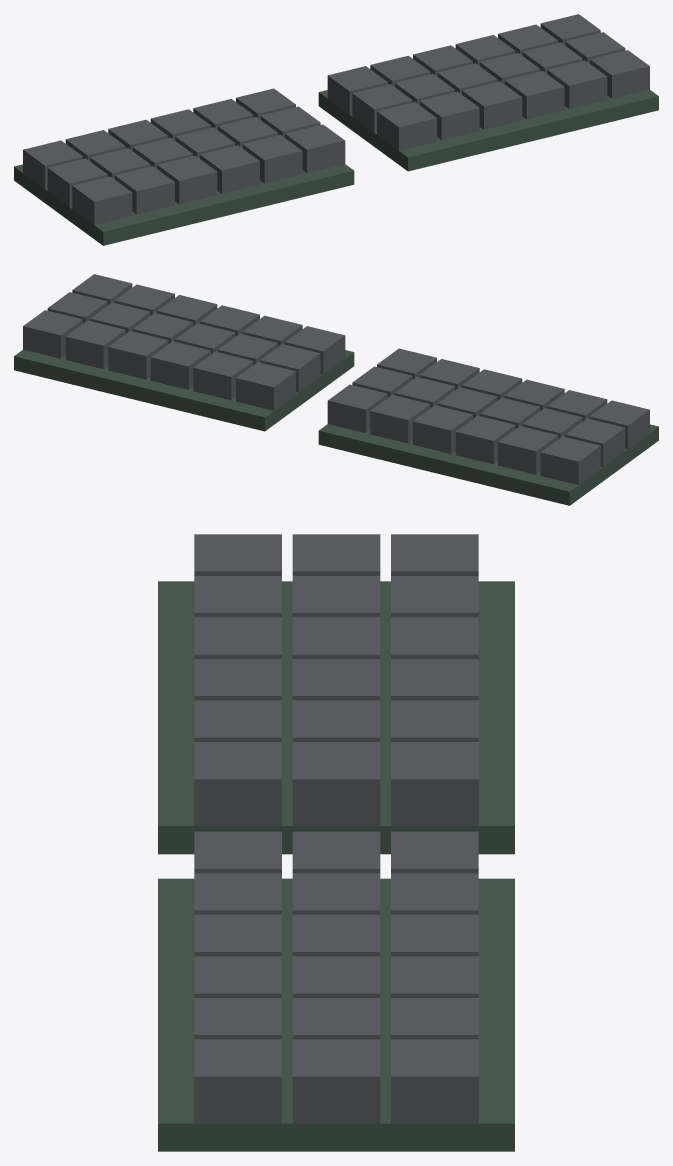
File: keyboard-sb-split36.glb
3 views of the same model, one above another, from view 1: azimuth 30°, elevation 25°; view 2: azimuth 150°, elevation 25°; view 3: azimuth 270°, elevation 25° (orthographic). The views are drawn at different scales.
Parts seen in each view (by area): view 1: geometry_1, geometry_0, geometry_26, geometry_32, geometry_36, geometry_31, geometry_34, geometry_27, geometry_28, geometry_30, geometry_33, geometry_35 (+26 smaller); view 2: geometry_1, geometry_0, geometry_2, geometry_8, geometry_12, geometry_7, geometry_10, geometry_3, geometry_4, geometry_6, geometry_9, geometry_11 (+26 smaller); view 3: geometry_1, geometry_0, geometry_25, geometry_13, geometry_37, geometry_19, geometry_7, geometry_31, geometry_20, geometry_22, geometry_8, geometry_10 (+26 smaller).
Part boxes in pixels (box(x1,y1,x2,y2)): geometry_1: box(318, 89, 658, 171); geometry_0: box(14, 164, 354, 245); geometry_26: box(72, 176, 132, 224); geometry_32: box(377, 102, 436, 150); geometry_36: box(547, 60, 607, 109); geometry_31: box(285, 124, 345, 173); geometry_34: box(462, 81, 522, 129); geometry_27: box(114, 166, 174, 214); geometry_28: box(157, 155, 217, 204); geometry_30: box(242, 135, 302, 183); geometry_33: box(419, 91, 479, 140); geometry_35: box(504, 71, 564, 119); geometry_1: box(14, 349, 354, 431); geometry_0: box(318, 424, 658, 505); geometry_2: box(540, 436, 600, 484); geometry_8: box(236, 362, 295, 410); geometry_12: box(65, 320, 125, 369); geometry_7: box(327, 384, 387, 433); geometry_10: box(150, 341, 210, 389); geometry_3: box(498, 426, 558, 474); geometry_4: box(455, 415, 515, 464); geometry_6: box(370, 395, 430, 443); geometry_9: box(193, 351, 253, 400); geometry_11: box(108, 331, 168, 379); geometry_1: box(158, 878, 514, 1151); geometry_0: box(158, 581, 514, 854); geometry_25: box(292, 1039, 380, 1123); geometry_13: box(391, 1039, 478, 1123); geometry_37: box(194, 1039, 281, 1123); geometry_19: box(292, 742, 380, 825); geometry_7: box(391, 742, 478, 825); geometry_31: box(194, 742, 281, 825); geometry_20: box(292, 831, 380, 873); geometry_22: box(292, 914, 380, 956); geometry_8: box(391, 831, 478, 873); geometry_10: box(391, 914, 478, 956).
Size of the model in its own units: 0.248 by 0.016 by 0.069.
